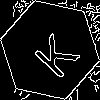K: (25, 25, 81, 81)
